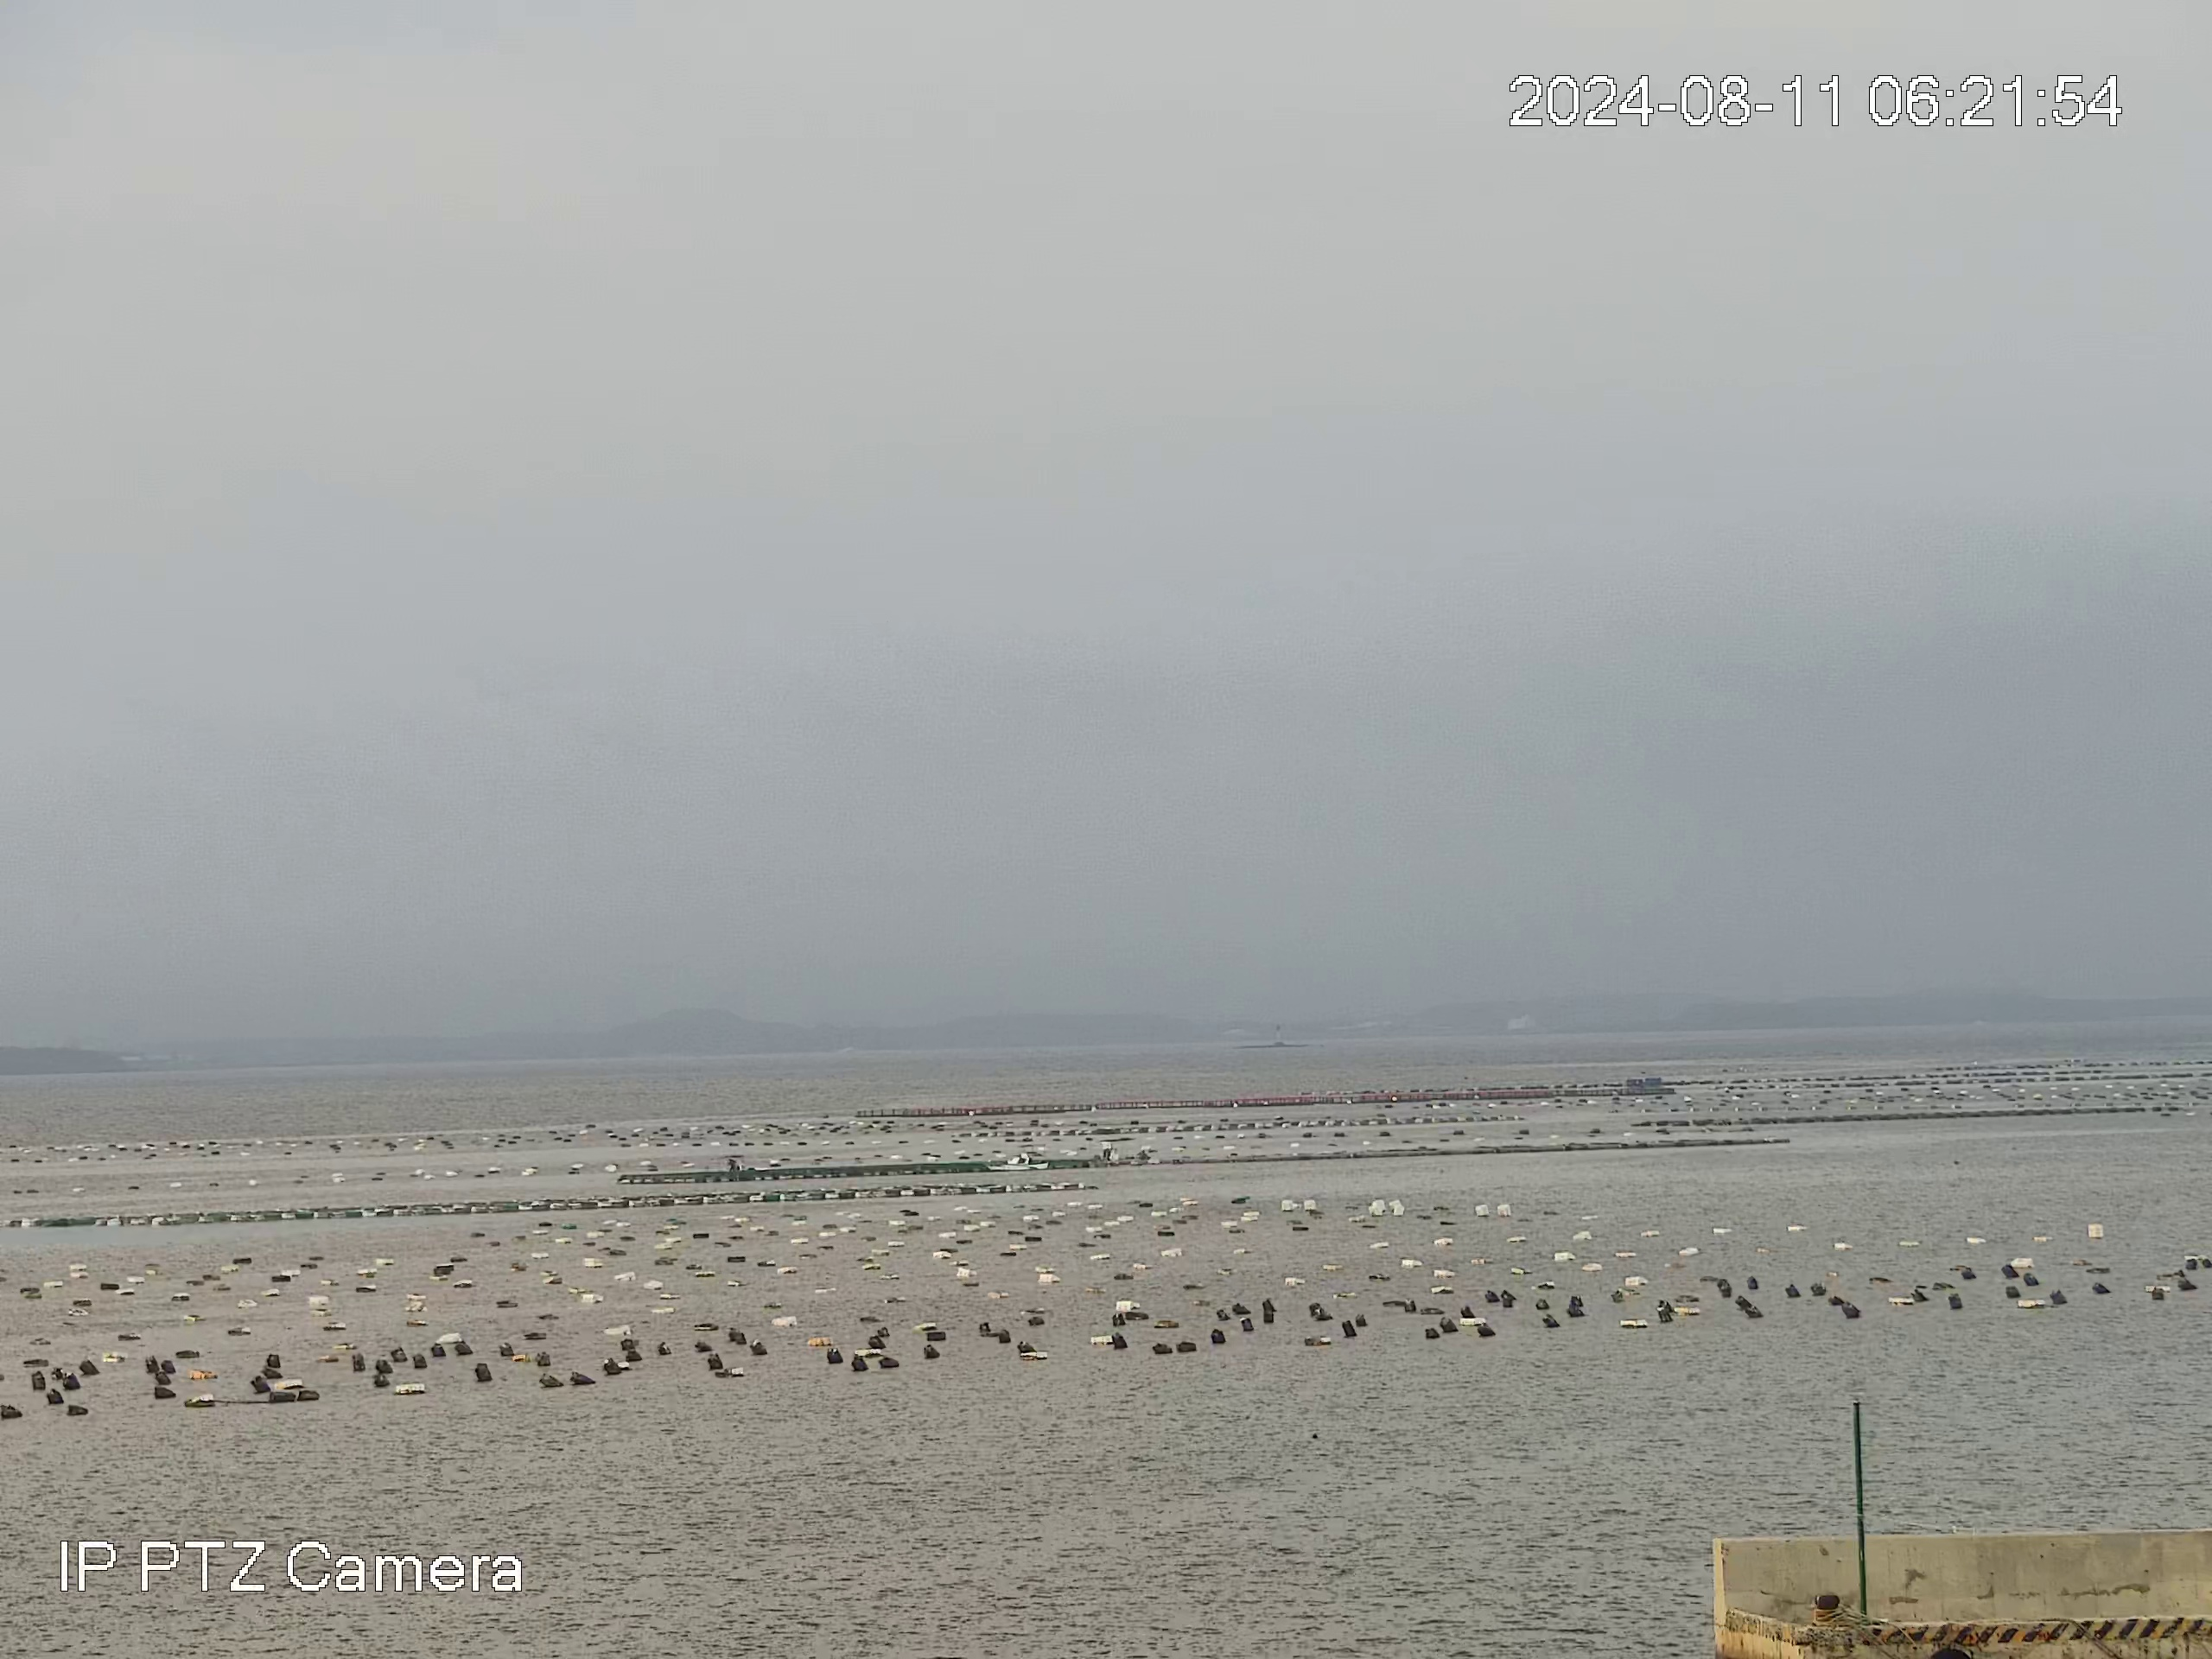boat: (984, 1150, 1052, 1173)
